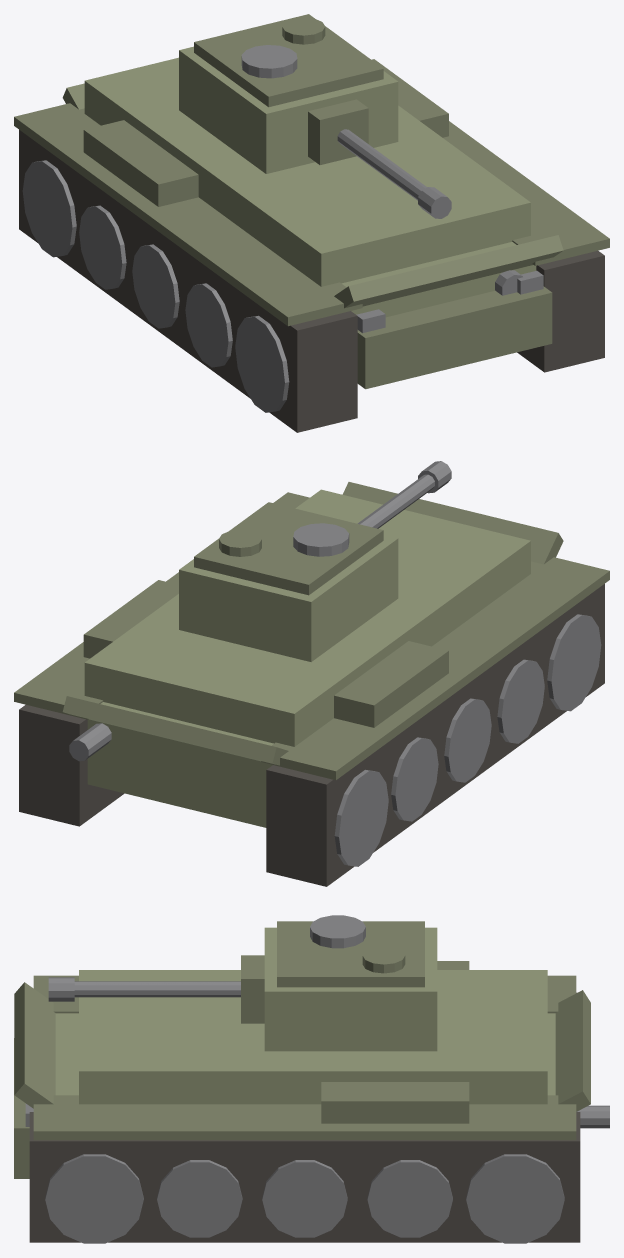
File: tank_light.glb
3 views of the same model, one above another, from view 1: azimuth 30°, elevation 25°; view 2: azimuth 150°, elevation 25°; view 3: azimuth 270°, elevation 25° (orthographic).
Parts seen in each view (by area): view 1: tank_light; view 2: tank_light; view 3: tank_light.
Part boxes in pixels (left/top/right/bottom): tank_light: left=14, top=14, right=609, bottom=432; tank_light: left=14, top=461, right=609, bottom=886; tank_light: left=14, top=915, right=609, bottom=1243.
Size of the model in its own units: 2.24 by 1.53 by 3.62.
